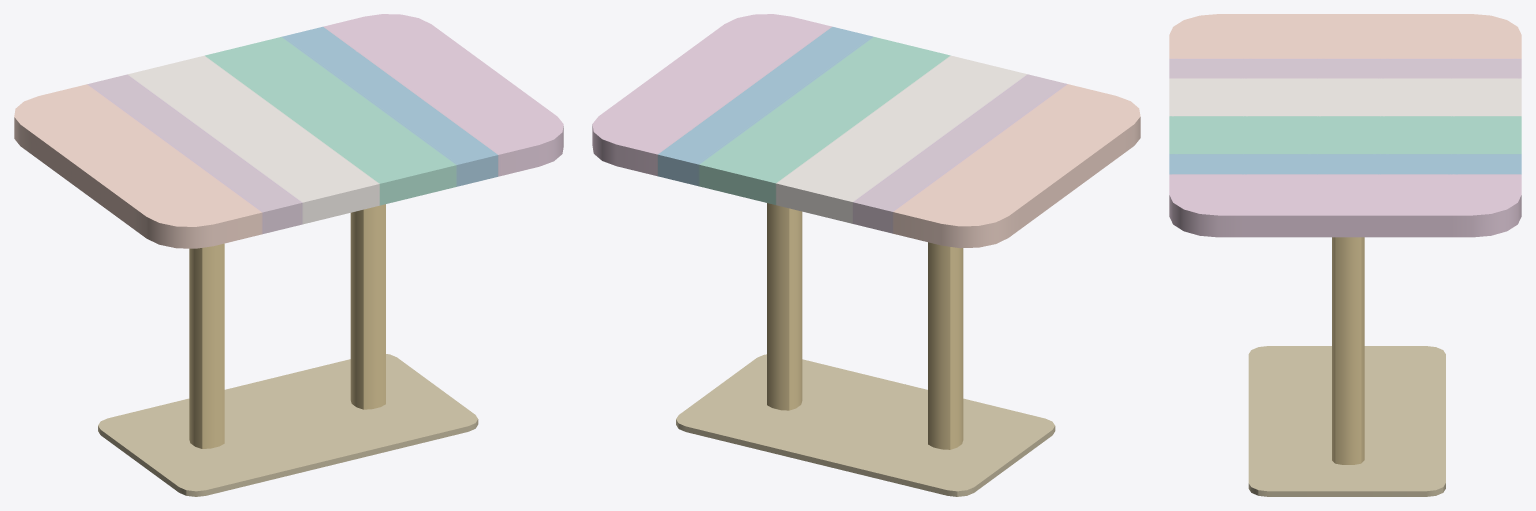
The model's file is Table.fbx.
The picture shows the model from 3 angles, left to right: view 1: azimuth 30°, elevation 25°; view 2: azimuth 150°, elevation 25°; view 3: azimuth 270°, elevation 25°; orthographic projection.
Visible parts, largest first — view 1: Table; view 2: Table; view 3: Table.
Part boxes in pixels (box(x1,y1,x2,y2)): Table: box(14, 14, 563, 496); Table: box(592, 14, 1140, 496); Table: box(1169, 14, 1521, 496).
Size of the model in its own units: 56.95 by 40.78 by 42.06.
1 material, 1 textured.
